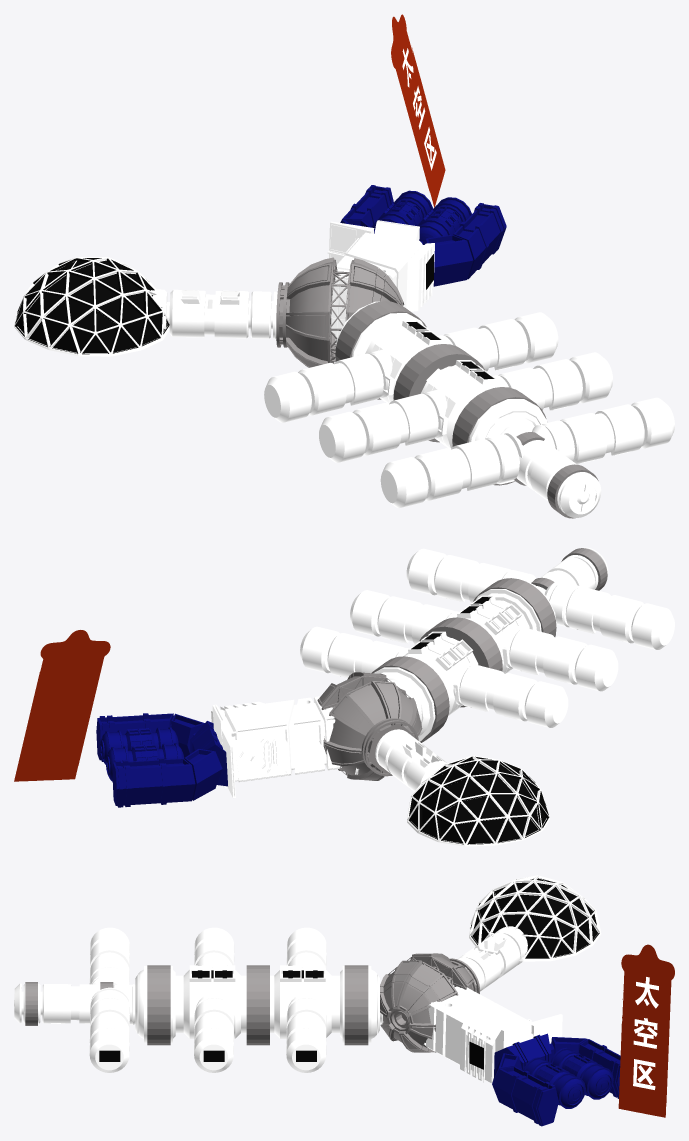
3 views of the same model, one above another, from view 1: azimuth 30°, elevation 25°; view 2: azimuth 150°, elevation 25°; view 3: azimuth 270°, elevation 25° (orthographic). The views are drawn at different scales.
Visible parts, largest first — view 1: part39.001, part74, part94, part36, part65.007, part60, part65.001, part65, part65.006, part65.004, part39, part65.002 (+7 smaller); view 2: part74, 贝塞尔曲线.017, part60, part39.001, part36, part94, part65.007, part65.001, part65, part39, part65.006, part65.002 (+7 smaller); view 3: part94, part74, 贝塞尔曲线.017, part60, part36, part39.001, part39, part65.006, part65.005, part65.003, part65.002, part65.004 (+8 smaller).
Boxes of the visible parts, x1,y1,x2,y2 form: part39.001: (15,258,169,354); part74: (340,185,506,286); part94: (335,301,547,484); part36: (276,257,404,367); part65.007: (380,432,523,508); part60: (327,220,434,343); part65.001: (264,350,392,422); part65: (319,390,447,462); part65.006: (532,397,674,464); part65.004: (151,289,277,338); part39: (14,257,169,356); part65.002: (492,352,612,410); part74: (96,713,227,807); 贝塞尔曲线.017: (14,630,110,781); part60: (211,696,358,797); part39.001: (408,756,549,844); part36: (317,672,422,780); part94: (373,578,556,741); part65.007: (544,580,674,649); part65.001: (452,661,568,727); part65: (501,624,618,691); part39: (407,755,549,846); part65.006: (406,548,535,602); part65.002: (350,590,458,643); part94: (132,965,382,1042); part74: (492,1033,620,1126); 贝塞尔曲线.017: (618,944,674,1117); part60: (424,980,562,1082); part36: (380,953,480,1052); part39.001: (470,878,599,958); part39: (469,875,601,961); part65.006: (89,987,129,1072); part65.005: (14,983,134,1024); part65.003: (286,992,326,1072); part65.002: (194,992,234,1072); part65.004: (458,926,527,991).
Size of the model in its own units: 9.06 by 3.67 by 12.31.
